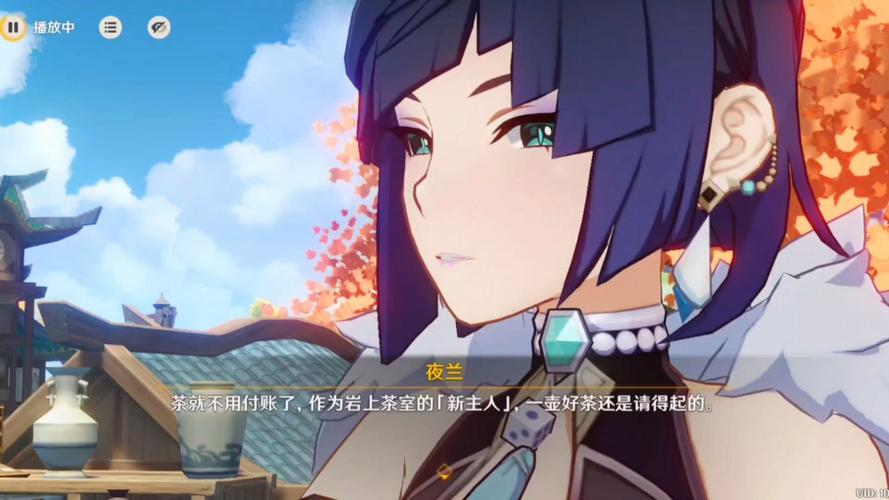夜兰: (289, 3, 888, 492)
